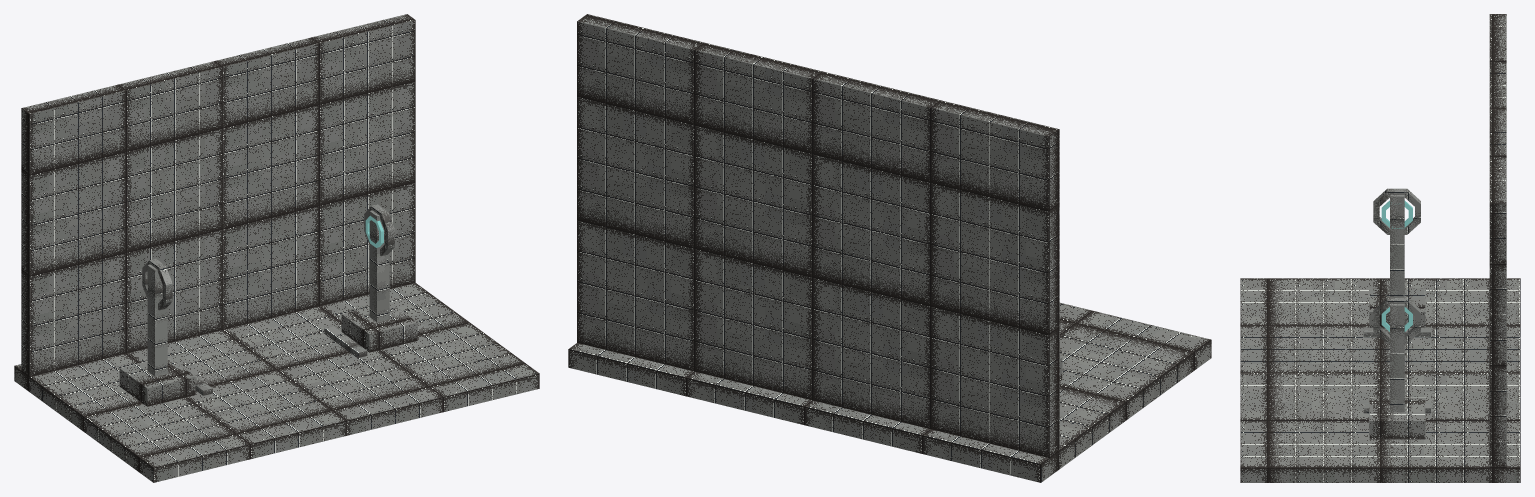
The model's file is gate_blink_proposal.glb.
The picture shows the model from 3 angles, left to right: view 1: azimuth 30°, elevation 25°; view 2: azimuth 150°, elevation 25°; view 3: azimuth 270°, elevation 25°; orthographic projection. The views are drawn at different scales.
Parts seen in each view (by area): view 1: gate_blink_proposal; view 2: gate_blink_proposal; view 3: gate_blink_proposal.
Part boxes in pixels (box(x1,y1,x2,y2)): gate_blink_proposal: box(14, 14, 539, 482); gate_blink_proposal: box(568, 14, 1211, 482); gate_blink_proposal: box(1240, 14, 1520, 482).
Bounding box in the file's own units: 8 × 5.5 × 5.
Materials: 3 (2 with a texture image).
